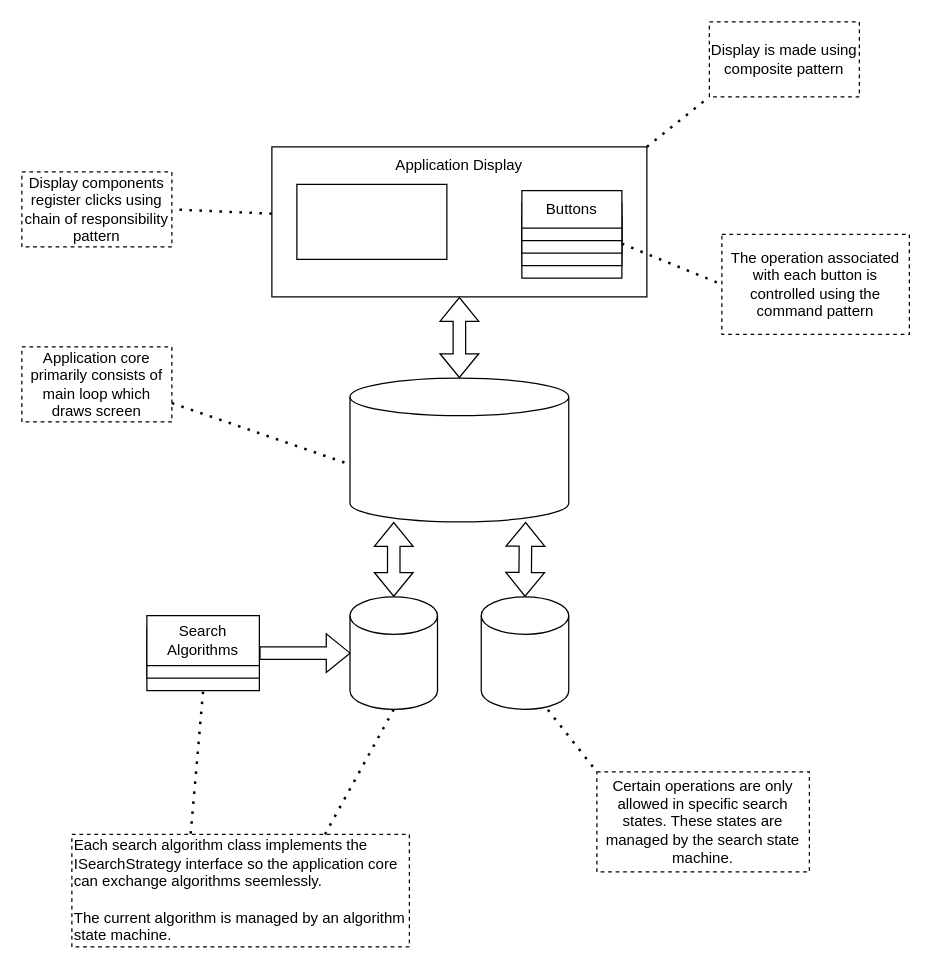
The diagram is 931 pixels wide and 969 high, and some of its shapes have lost their labels. The box of each missing label's shape, as (x1, y1, x2, y2) in pixels:
Algorithm State Machine: (349, 596, 438, 709)
Application Core: (349, 377, 569, 522)
Grid display: (296, 183, 447, 259)
Search State Machine: (480, 596, 569, 709)
